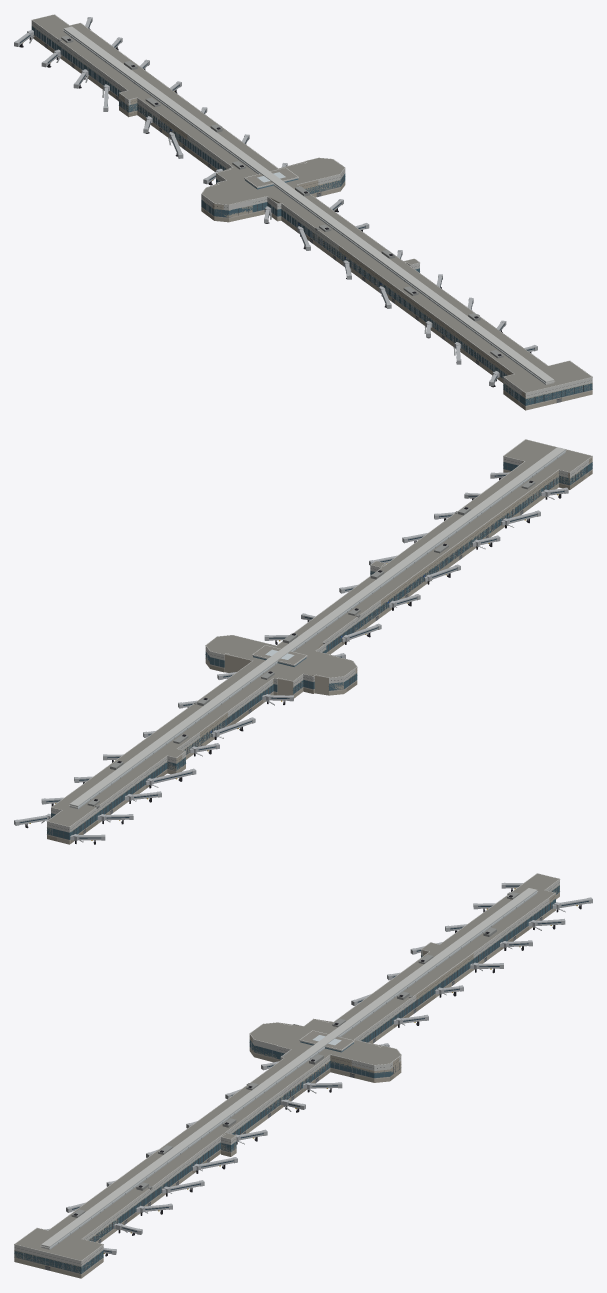
File: atl-concourse-a.glb
The picture shows the model from 3 angles, top to bottom: view 1: azimuth 30°, elevation 25°; view 2: azimuth 150°, elevation 25°; view 3: azimuth 330°, elevation 25°; orthographic projection.
Parts seen in each view (by area): view 1: lod2_lm_stone, lod0_lm_metal, lod1_lm_stone, lod2_bld_wall, lod0_bld_glass, lod1_bld_glass, lod0_bld_wall, lod2_lm_lit, lod1_bld_wall, lod0_lm_lit; view 2: lod2_lm_stone, lod0_lm_metal, lod1_lm_stone, lod2_bld_wall, lod0_bld_glass, lod1_bld_glass, lod0_bld_wall, lod2_lm_lit, lod0_lm_glass, lod1_bld_wall, lod0_lm_lit; view 3: lod2_lm_stone, lod0_lm_metal, lod1_lm_stone, lod0_bld_glass, lod2_bld_wall, lod0_bld_wall, lod2_lm_lit, lod1_bld_glass, lod0_lm_glass, lod0_lm_lit.
Part boxes in pixels (x1,y1,x2,y2): lod2_lm_stone: [33, 15, 591, 392]; lod0_lm_metal: [14, 14, 592, 405]; lod1_lm_stone: [14, 17, 583, 403]; lod2_bld_wall: [35, 22, 592, 410]; lod0_bld_glass: [31, 26, 592, 405]; lod1_bld_glass: [137, 103, 518, 399]; lod0_bld_wall: [33, 35, 592, 410]; lod2_lm_lit: [63, 29, 545, 382]; lod1_bld_wall: [137, 111, 518, 404]; lod0_lm_lit: [257, 172, 545, 384]; lod2_lm_stone: [48, 439, 591, 826]; lod0_lm_metal: [14, 439, 592, 843]; lod1_lm_stone: [14, 456, 592, 843]; lod2_bld_wall: [47, 457, 592, 839]; lod0_bld_glass: [51, 462, 592, 839]; lod1_bld_glass: [47, 467, 585, 835]; lod0_bld_wall: [51, 470, 592, 844]; lod2_lm_lit: [78, 450, 565, 806]; lod0_lm_glass: [19, 475, 564, 838]; lod1_bld_wall: [47, 476, 585, 839]; lod0_lm_lit: [265, 451, 565, 659]; lod2_lm_stone: [15, 873, 558, 1260]; lod0_lm_metal: [14, 873, 592, 1273]; lod1_lm_stone: [23, 873, 592, 1274]; lod0_bld_glass: [14, 885, 559, 1273]; lod2_bld_wall: [14, 882, 559, 1277]; lod0_bld_wall: [14, 893, 559, 1278]; lod2_lm_lit: [49, 890, 537, 1248]; lod1_bld_glass: [81, 1045, 395, 1273]; lod0_lm_glass: [72, 885, 588, 1252]; lod0_lm_lit: [283, 892, 537, 1078].
Bounding box in the file's own units: 113 × 16.51 × 731.
